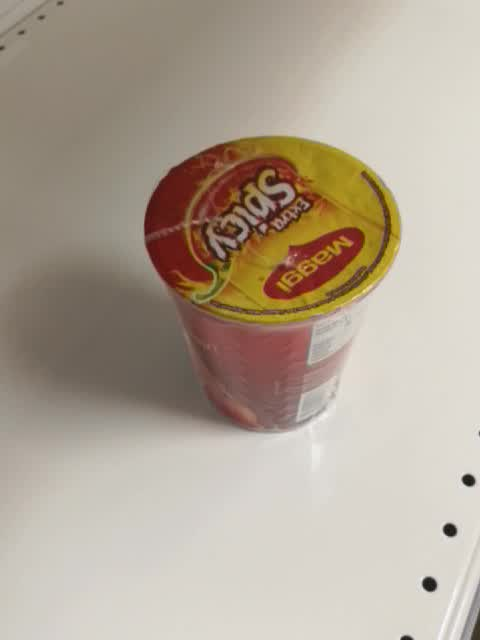maggi: (143, 134, 401, 434)
